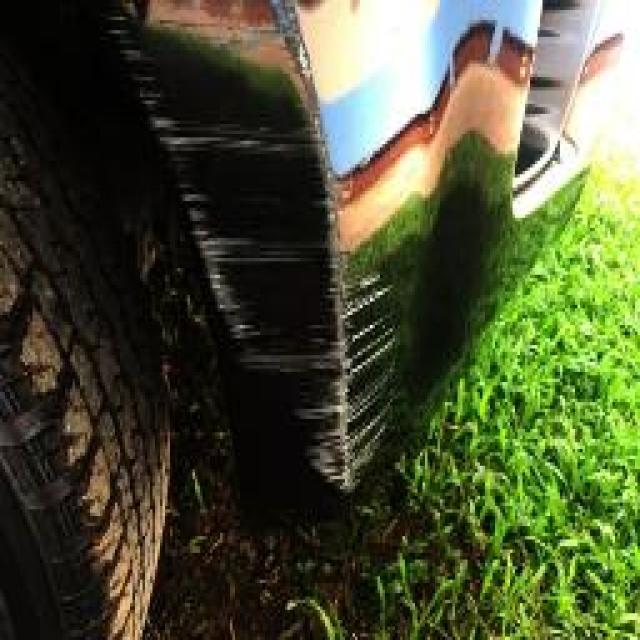Bumper: (60, 3, 512, 509)
